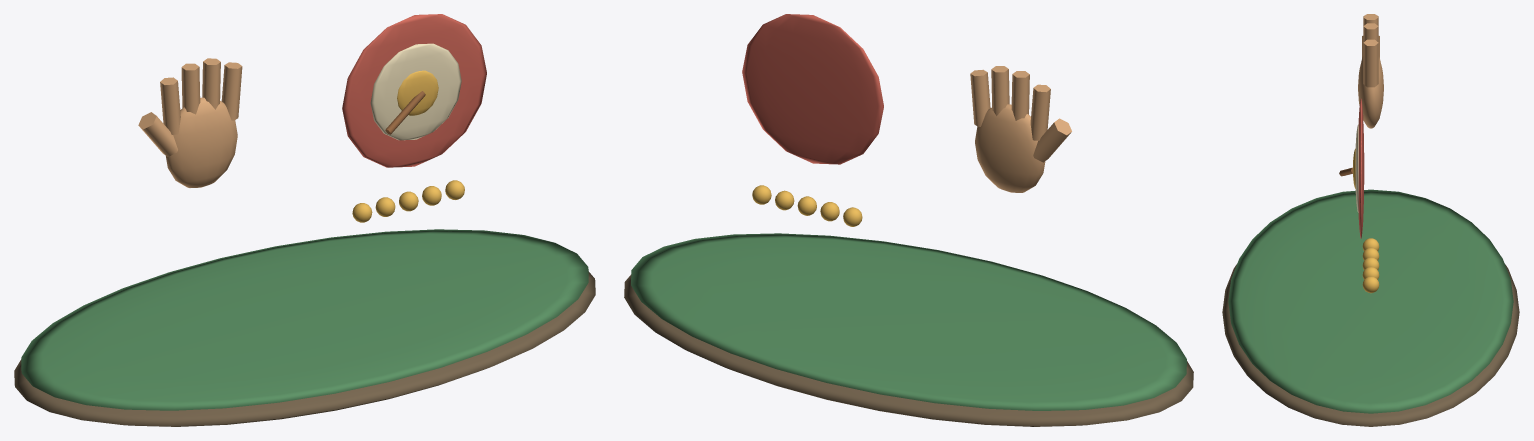
The model's file is complete-second-that-middle.glb.
3 views of the same model, side by side, from view 1: azimuth 30°, elevation 25°; view 2: azimuth 150°, elevation 25°; view 3: azimuth 270°, elevation 25° (orthographic). The views are drawn at different scales.
Visible parts, largest first — view 1: complete-second-that-middle_surface_01, complete-second-that-middle_surface_00, complete-second-that-middle_surface_03, complete-second-that-middle_surface_02, complete-second-that-middle_surface_04, complete-second-that-middle_surface_05; view 2: complete-second-that-middle_surface_01, complete-second-that-middle_surface_03, complete-second-that-middle_surface_00, complete-second-that-middle_surface_02, complete-second-that-middle_surface_05; view 3: complete-second-that-middle_surface_01, complete-second-that-middle_surface_00, complete-second-that-middle_surface_02, complete-second-that-middle_surface_05, complete-second-that-middle_surface_03, complete-second-that-middle_surface_04.
Part boxes in pixels (x1,y1,x2,y2): complete-second-that-middle_surface_01: [21, 229, 588, 410]; complete-second-that-middle_surface_00: [14, 271, 595, 426]; complete-second-that-middle_surface_03: [342, 14, 486, 167]; complete-second-that-middle_surface_02: [138, 58, 242, 187]; complete-second-that-middle_surface_04: [370, 43, 461, 140]; complete-second-that-middle_surface_05: [352, 70, 464, 222]; complete-second-that-middle_surface_01: [631, 233, 1186, 410]; complete-second-that-middle_surface_03: [742, 14, 883, 164]; complete-second-that-middle_surface_00: [624, 274, 1193, 426]; complete-second-that-middle_surface_02: [970, 66, 1071, 192]; complete-second-that-middle_surface_05: [752, 185, 862, 226]; complete-second-that-middle_surface_01: [1228, 189, 1513, 413]; complete-second-that-middle_surface_00: [1222, 264, 1519, 426]; complete-second-that-middle_surface_02: [1358, 14, 1383, 128]; complete-second-that-middle_surface_05: [1353, 148, 1379, 293]; complete-second-that-middle_surface_03: [1358, 98, 1364, 238]; complete-second-that-middle_surface_04: [1355, 124, 1358, 212].
Bounding box in the file's own units: 4.56 × 2.45 × 2.5.
